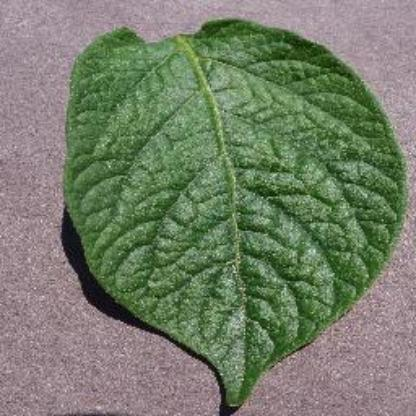Healthy-plant: (64, 15, 406, 408)
